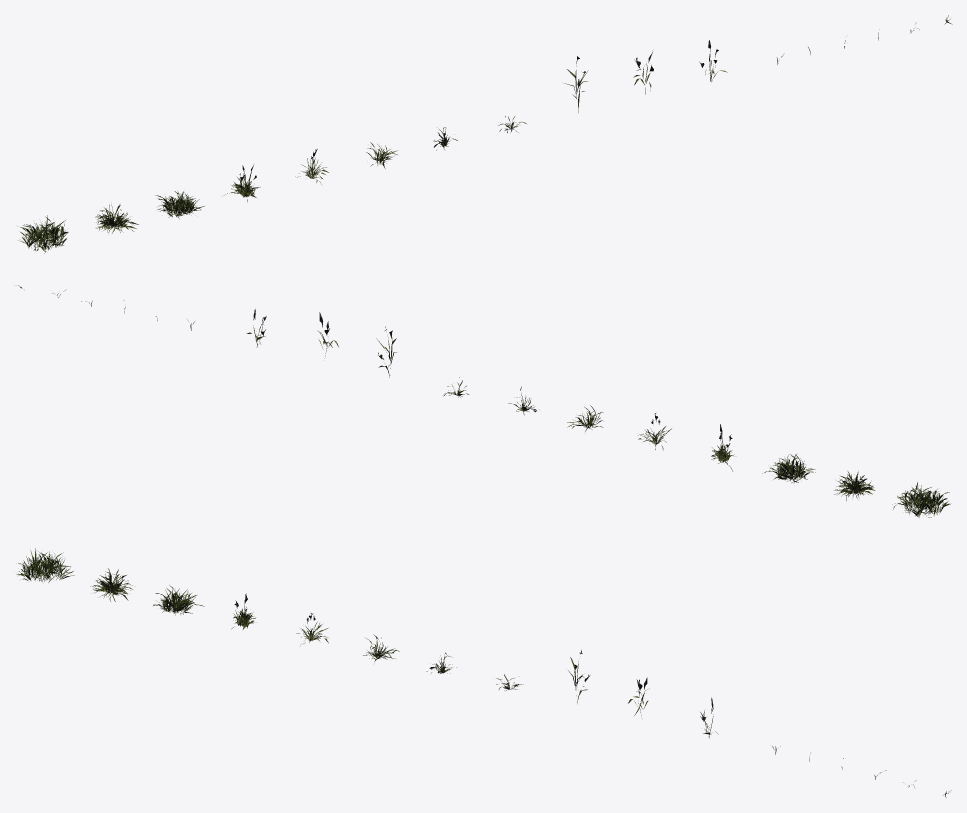
Rendered from grass_medium_01.glb.
3 renders of one model, top to bottom at view 1: azimuth 30°, elevation 25°; view 2: azimuth 150°, elevation 25°; view 3: azimuth 330°, elevation 25°, orthographic.
Visible parts, largest first — view 1: grass_medium_01_large_a_LOD0, grass_medium_01_large_c_LOD0, grass_medium_01_large_b_LOD0; view 2: grass_medium_01_large_a_LOD0, grass_medium_01_large_c_LOD0, grass_medium_01_large_b_LOD0; view 3: grass_medium_01_large_a_LOD0, grass_medium_01_large_c_LOD0, grass_medium_01_large_b_LOD0.
Part boxes in pixels (x1,y1,x2,y2): grass_medium_01_large_a_LOD0: [19, 215, 68, 253]; grass_medium_01_large_c_LOD0: [155, 191, 204, 218]; grass_medium_01_large_b_LOD0: [95, 204, 138, 233]; grass_medium_01_large_a_LOD0: [892, 482, 950, 517]; grass_medium_01_large_c_LOD0: [762, 453, 815, 483]; grass_medium_01_large_b_LOD0: [834, 471, 875, 500]; grass_medium_01_large_a_LOD0: [16, 548, 74, 582]; grass_medium_01_large_c_LOD0: [153, 585, 204, 615]; grass_medium_01_large_b_LOD0: [90, 568, 132, 601].
Size of the model in its own units: 5.6 by 0.3426 by 0.3264.
Materials: 1 (1 with a texture image).
